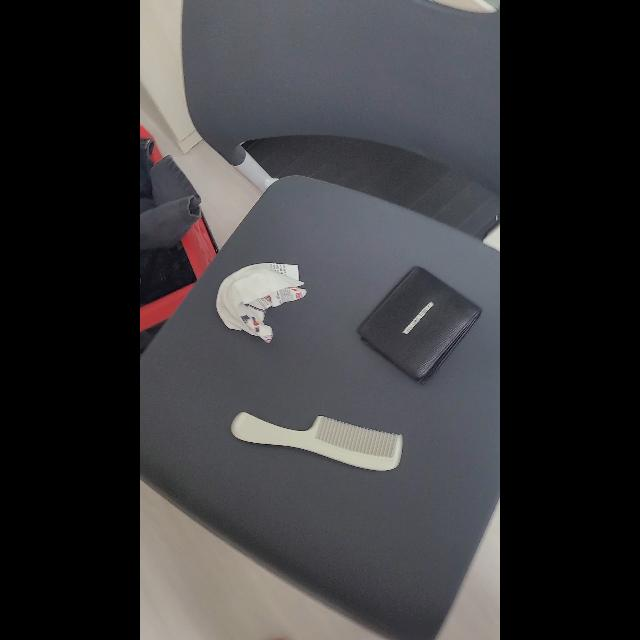COMB: (231, 412, 403, 472)
Glasses cleaning cloth: (216, 262, 306, 344)
WALLET: (357, 266, 483, 386)
